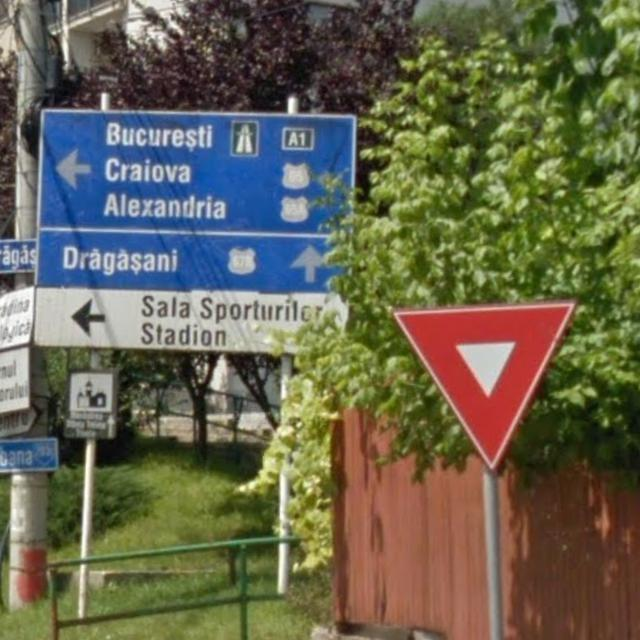prio_give_way: (382, 301, 566, 461)
